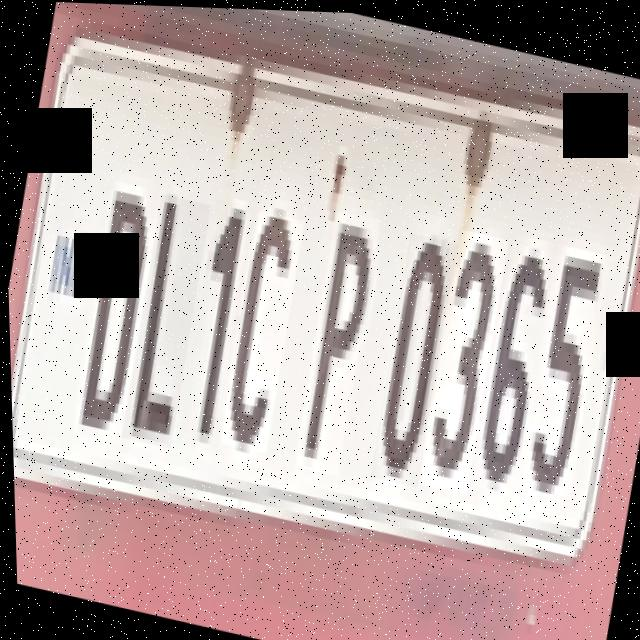0: (361, 228, 462, 486)
1: (163, 195, 262, 453)
3: (411, 225, 515, 494)
5: (514, 239, 615, 495)
6: (465, 236, 565, 491)
C: (212, 208, 309, 453)
D: (59, 178, 167, 445)
L: (113, 192, 216, 449)
P: (286, 206, 386, 475)
